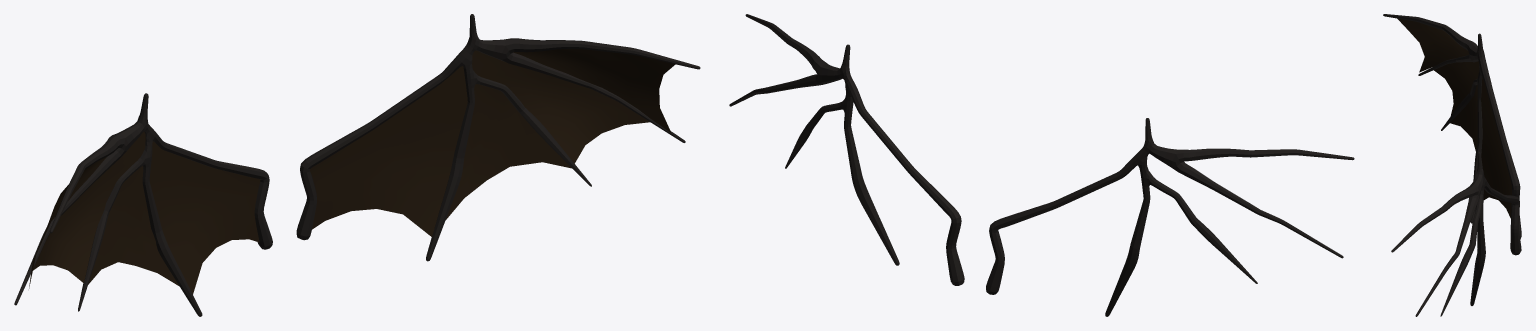
Rendered from simple_wings.gltf.
3 views of the same model, side by side, from view 1: azimuth 30°, elevation 25°; view 2: azimuth 150°, elevation 25°; view 3: azimuth 270°, elevation 25° (orthographic). The views are drawn at different scales.
Parts seen in each view (by area): view 1: Vert; view 2: Vert; view 3: Vert.
Boxes of the visible parts, x1,y1,x2,y2 form: Vert: [14, 14, 700, 316]; Vert: [729, 14, 1354, 316]; Vert: [1383, 14, 1521, 316].
Bounding box in the file's own units: 1.24 × 0.4092 × 0.2991.
